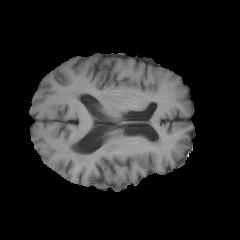glioma: (75, 137, 165, 171)
